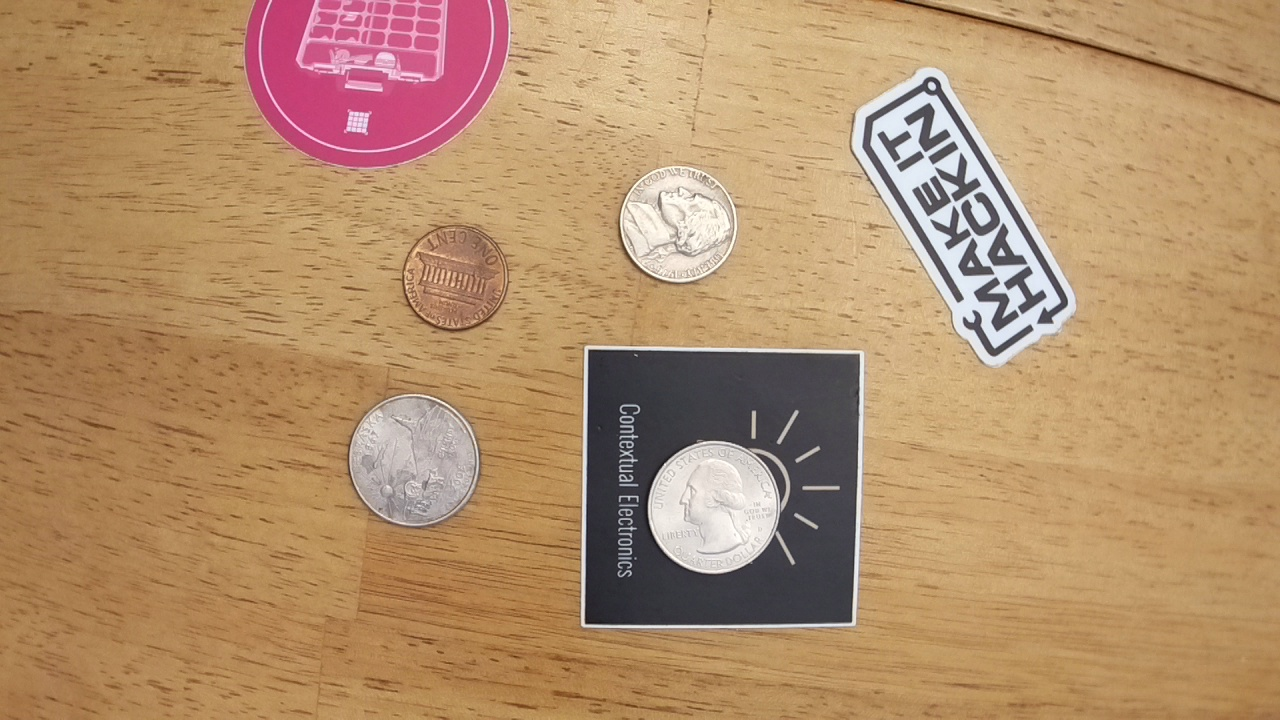nickel: (612, 160, 744, 286)
penny: (398, 219, 512, 333)
quarter: (644, 436, 786, 580), (340, 390, 486, 528)
